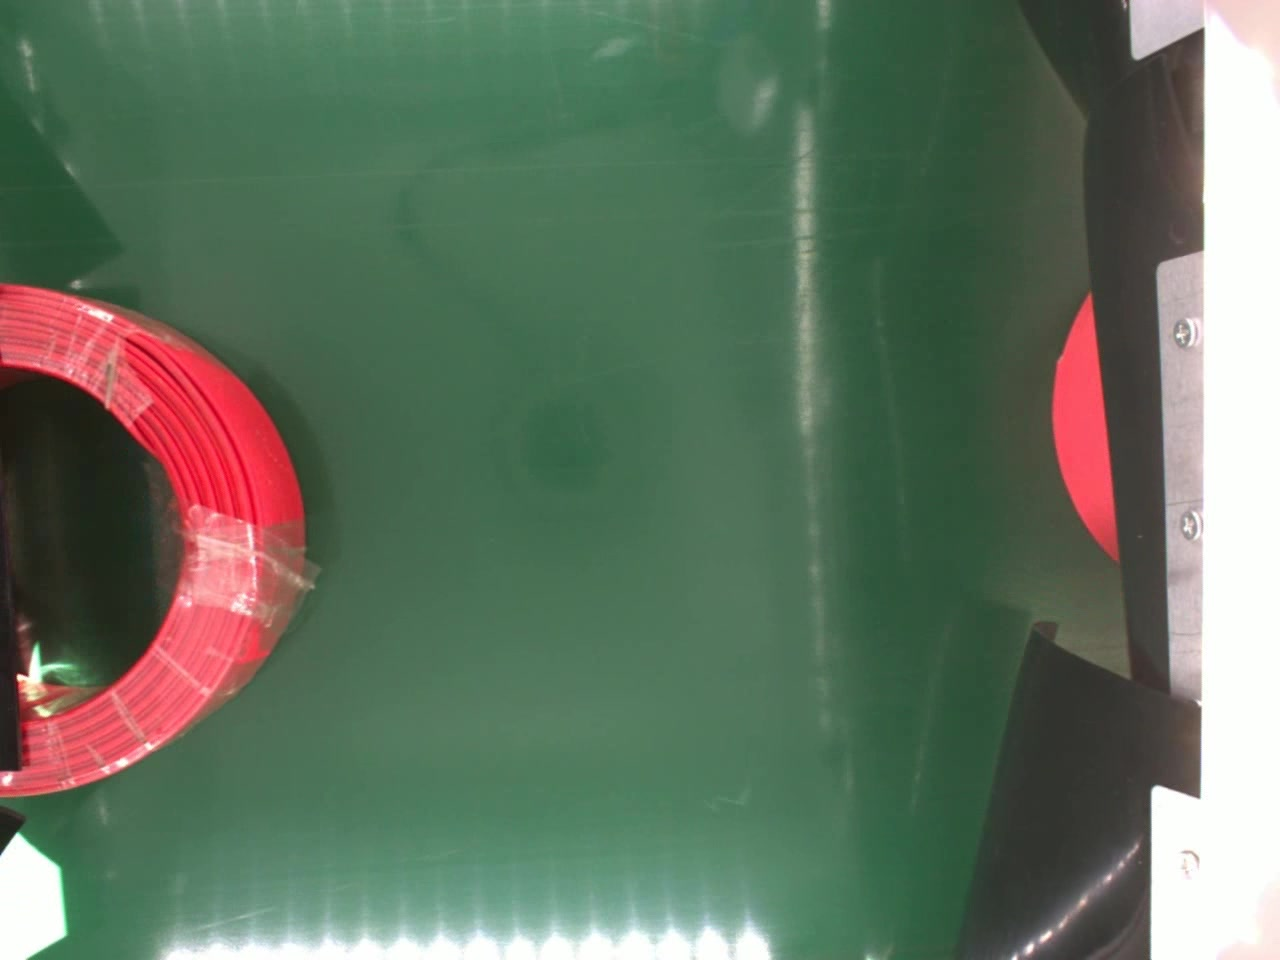red: (0, 275, 309, 800)
